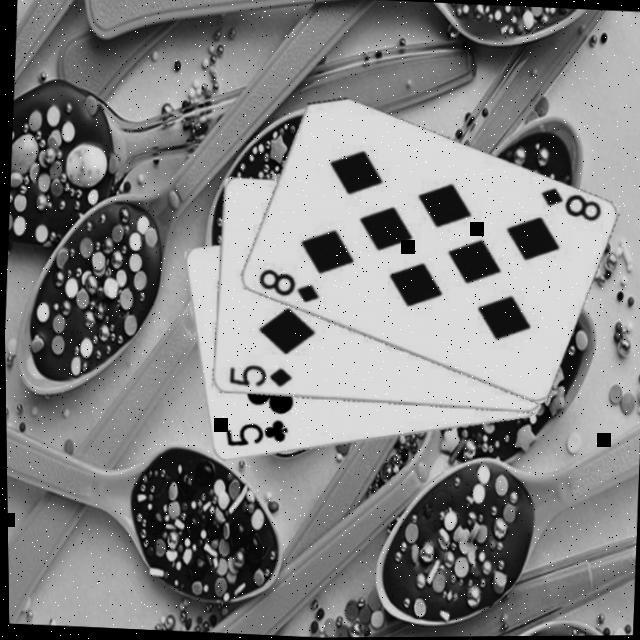5C: (221, 414, 291, 452)
5D: (226, 359, 294, 392)
8D: (253, 264, 324, 307), (535, 183, 605, 225)
